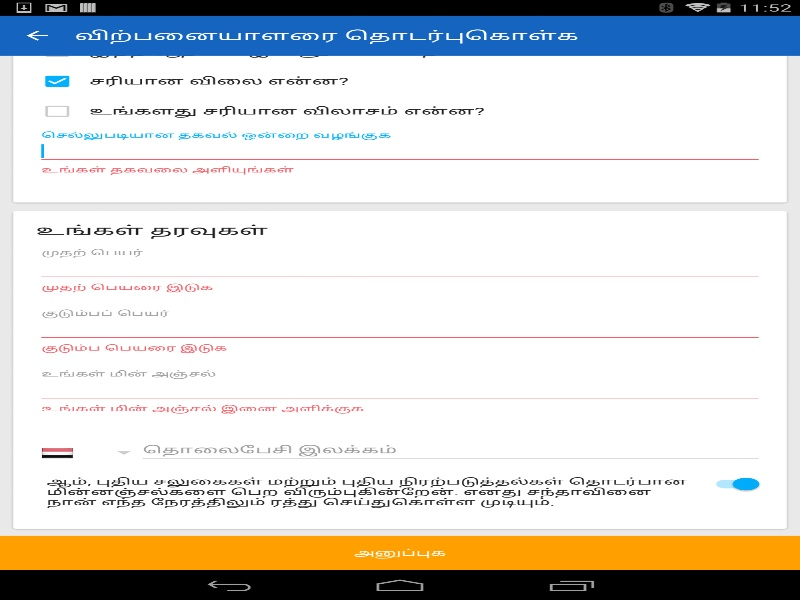Button: (0, 28, 74, 43)
Input: (36, 255, 764, 282), (36, 376, 764, 403), (36, 138, 764, 164), (36, 316, 764, 342), (137, 437, 764, 464)
